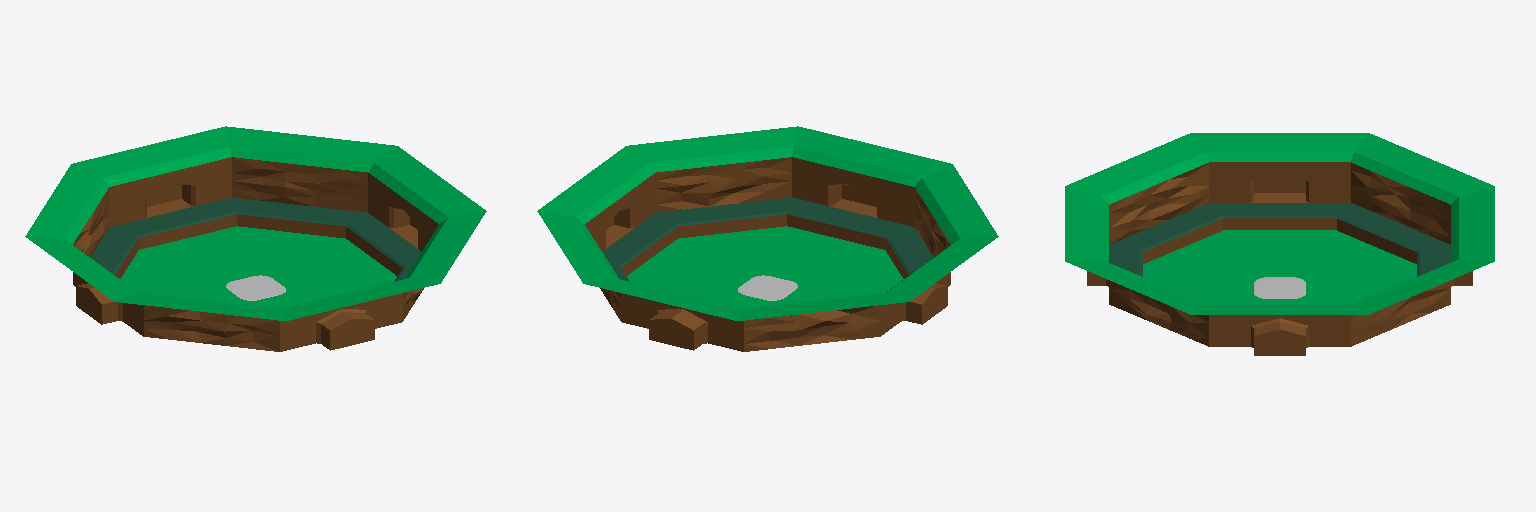
The picture shows the model from 3 angles: view 1: azimuth 30°, elevation 25°; view 2: azimuth 150°, elevation 25°; view 3: azimuth 270°, elevation 25°; orthographic projection.
Parts seen in each view (by area): view 1: Arena_Cylinder; view 2: Arena_Cylinder; view 3: Arena_Cylinder.
Boxes of the visible parts, <box> form: Arena_Cylinder: <box>25,126,486,351</box>; Arena_Cylinder: <box>537,126,998,351</box>; Arena_Cylinder: <box>1065,133,1494,355</box>.
Size of the model in its own units: 291 by 48 by 291.
1 materials, 1 textured.